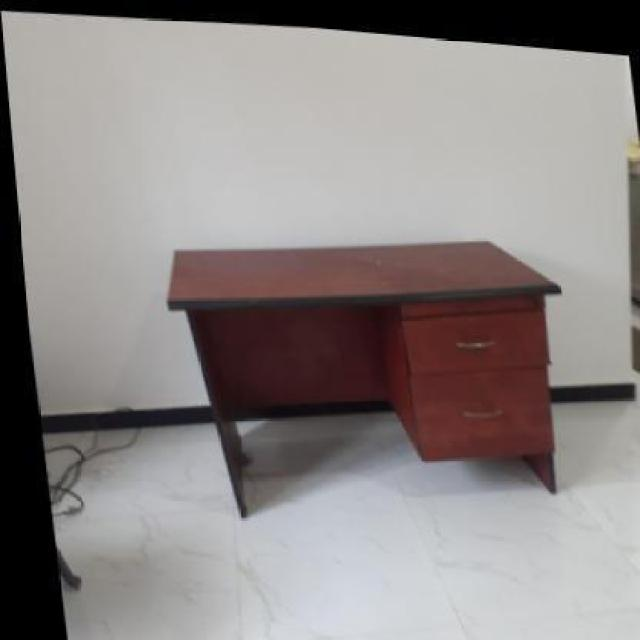tables: (166, 238, 562, 517)
